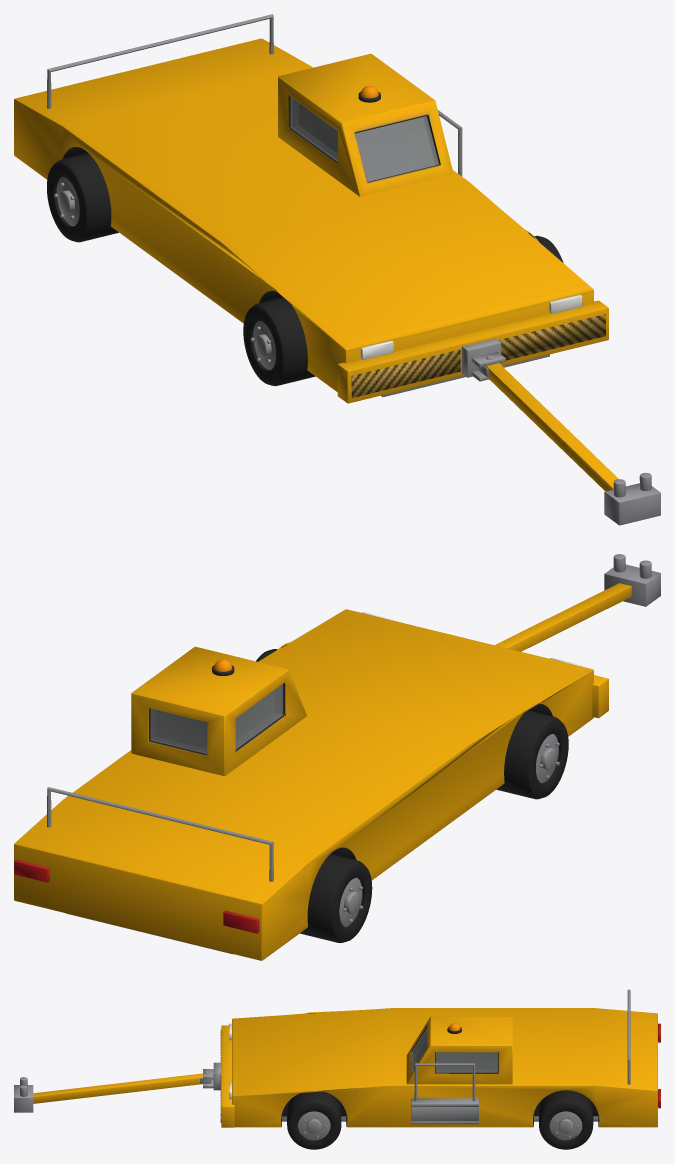
The model's file is indo-thai.mobile.glb.
3 views of the same model, one above another, from view 1: azimuth 30°, elevation 25°; view 2: azimuth 150°, elevation 25°; view 3: azimuth 270°, elevation 25° (orthographic). The views are drawn at different scales.
Parts seen in each view (by area): view 1: tug, wheels, towbar; view 2: tug, wheels, towbar; view 3: tug, wheels, towbar.
Part boxes in pixels (box(x1,y1,x2,y2)): tug: box(14, 14, 608, 403); wheels: box(47, 153, 563, 386); towbar: box(478, 363, 660, 525); tug: box(14, 609, 608, 960); wheels: box(256, 649, 568, 942); towbar: box(495, 554, 660, 651); tug: box(203, 989, 660, 1127); wheels: box(287, 1090, 593, 1149); towbar: box(14, 1073, 211, 1112).
Bounding box in the file's own units: 2.23 × 1.2 × 6.68.
Materials: 4 (3 with a texture image).
